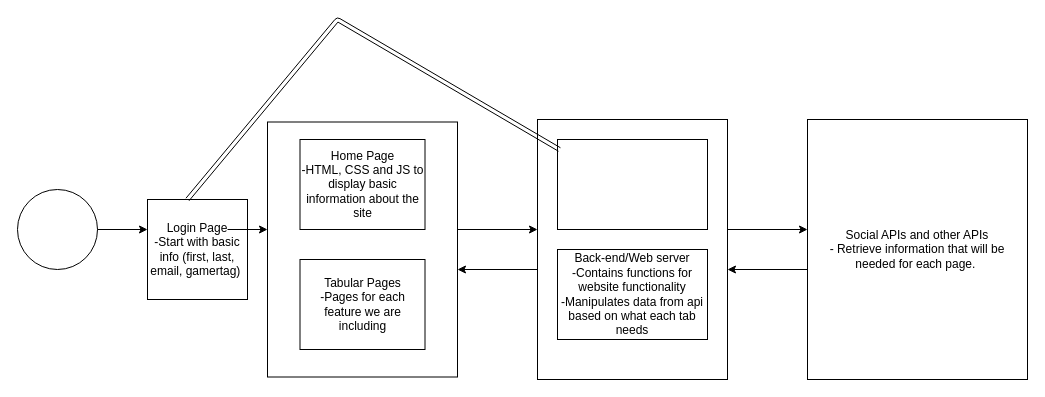
This 1045x397 diagram has some shape labels left out. The centre of each missing label's shape, as x and y in pixels:
"Database -For user information if they create account" belongs at (632,184).
"User" belongs at (57,229).
